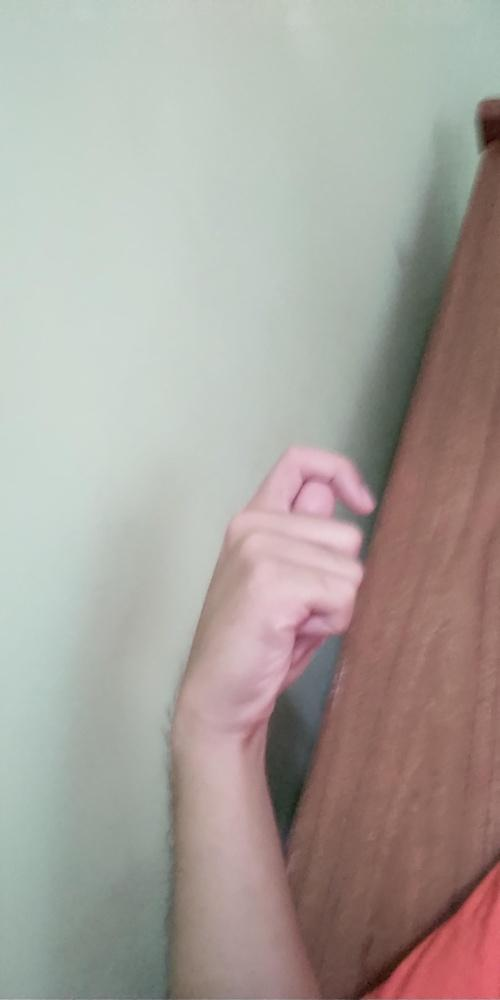t: (170, 444, 374, 724)
